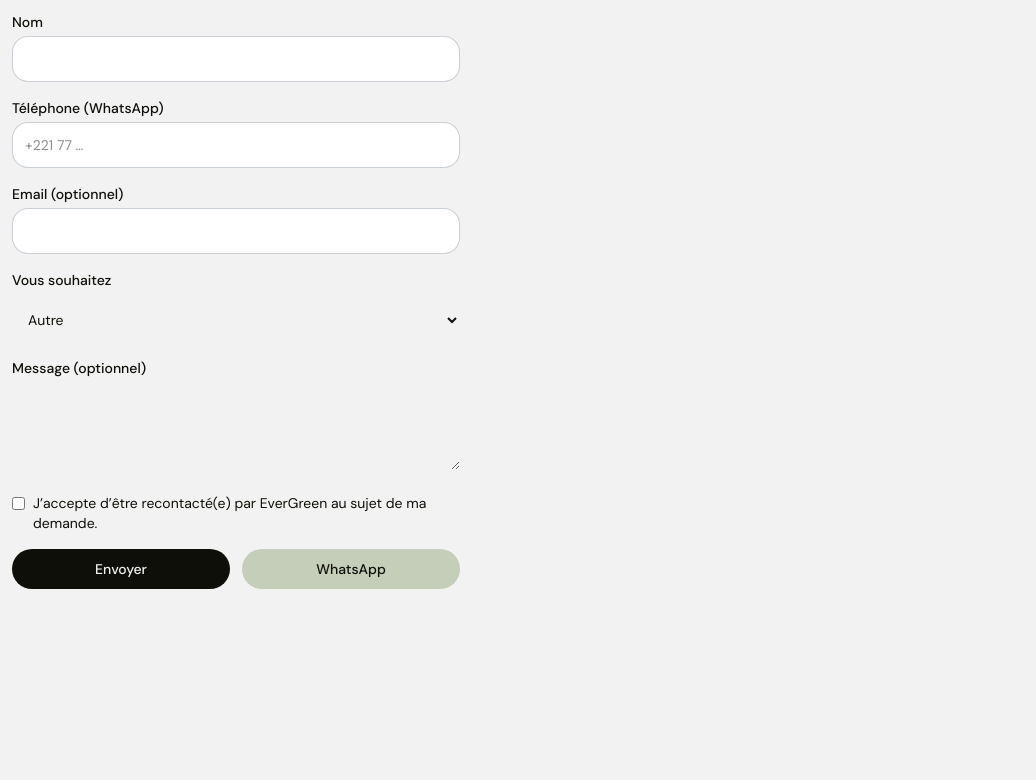
Test: LeadForm › shows success message after submit (mock)
Type "Fatou Diop" into the field labelled "Nom" at coordinates (236, 59), box x1=12 y1=36 x2=460 y2=82
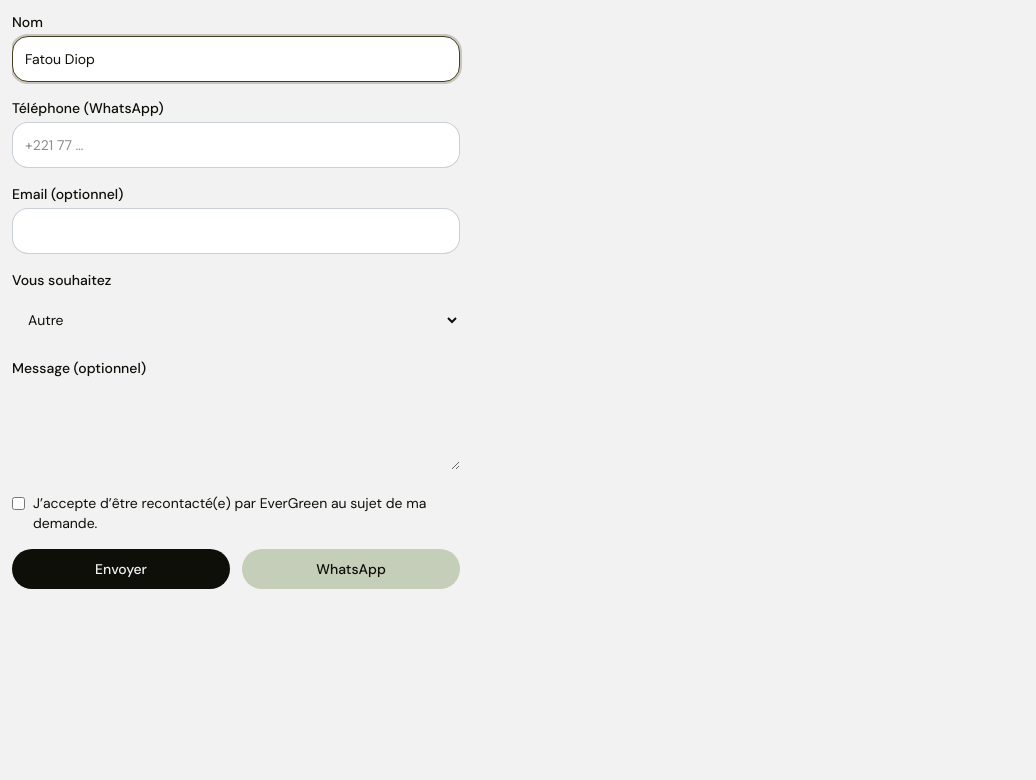
Type "+221770000000" into the field labelled "Téléphone (WhatsApp)" at coordinates (236, 145), box x1=12 y1=122 x2=460 y2=168
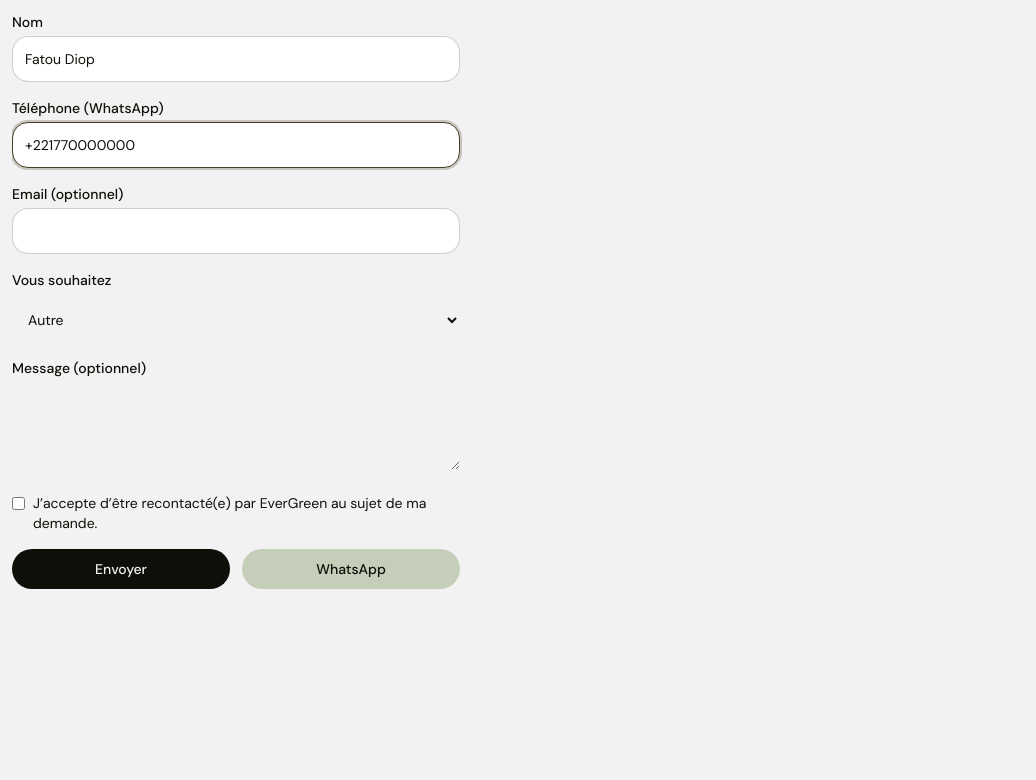
Click the checkbox at coordinates (18, 504), box x1=12 y1=497 x2=25 y2=510
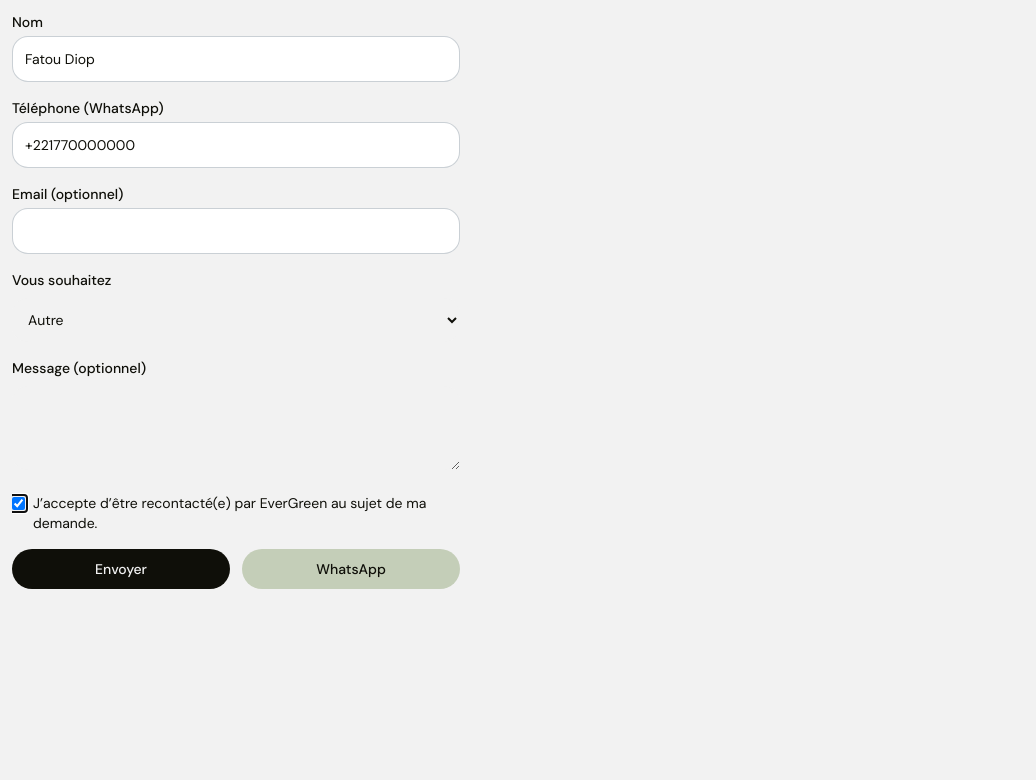
Click the button "Envoyer" at coordinates (121, 569), box x1=12 y1=549 x2=230 y2=589
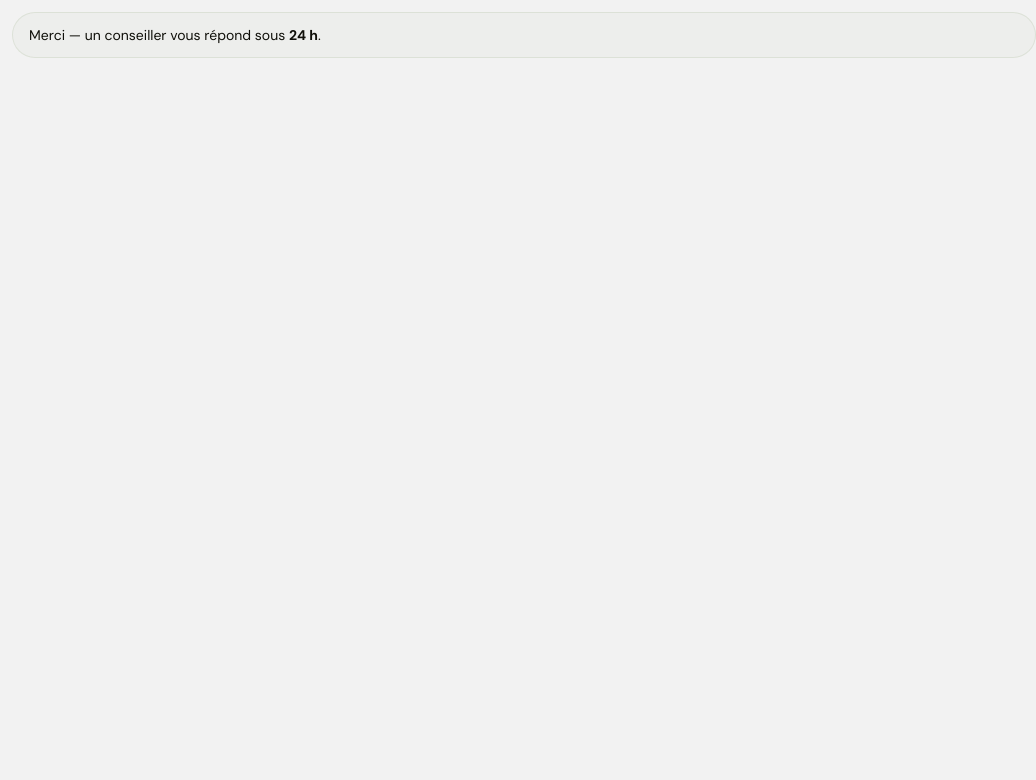
expect the message reads "Merci — un conseiller vous répond sous 24 h.": met, box x1=289 y1=26 x2=318 y2=44
